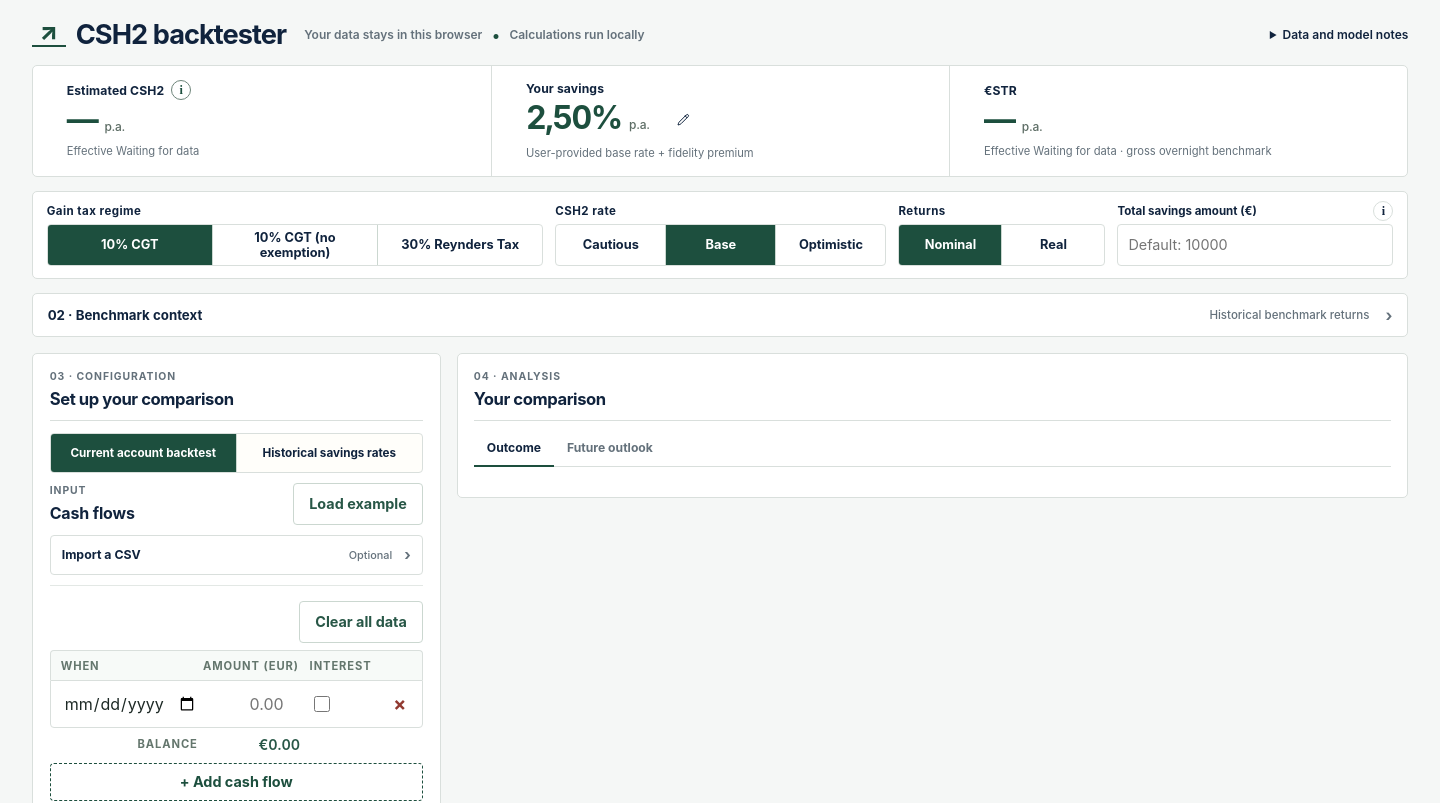
Test: CSH2 application inputs › migrates the former total account rate to the base-rate field
Click the tab "Future outlook" at [610, 449], box [554,431,666,467]
(page scrolled)
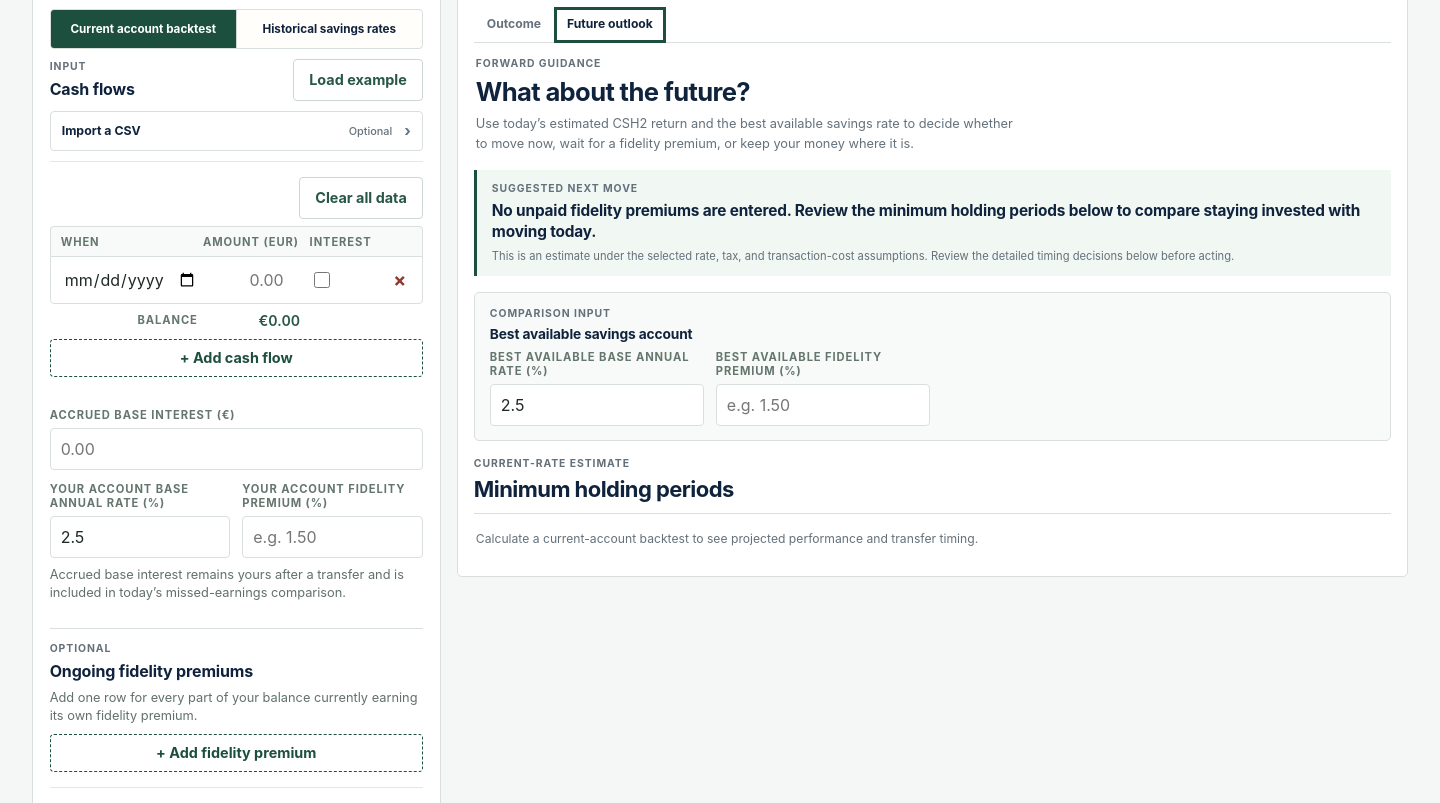
Expected: the number field labelled "Best available base annual rate (%)" holds "2.5", [490,384,704,426]
Expected: the number field labelled "Best available fidelity premium (%)" is not empty, [716,384,930,426]
